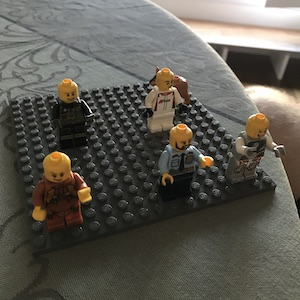Lego: (32, 150, 90, 234), (224, 112, 275, 186), (158, 123, 204, 196), (49, 78, 94, 149), (142, 66, 180, 135)
